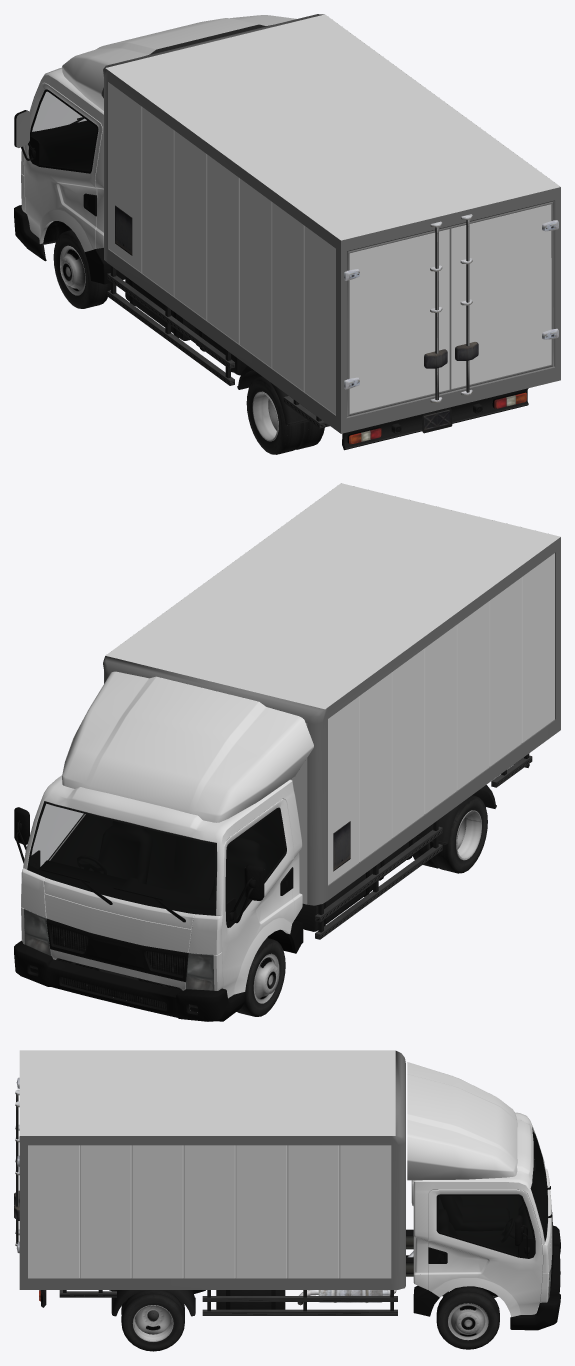
File: light_truck_07.glb
3 views of the same model, one above another, from view 1: azimuth 30°, elevation 25°; view 2: azimuth 150°, elevation 25°; view 3: azimuth 270°, elevation 25° (orthographic). The views are drawn at different scales.
Visible parts, largest first — view 1: body, wheel_FL, wheel_RL; view 2: body, wheel_FL, wheel_RL; view 3: body, wheel_FR, wheel_RR.
Boxes of the visible parts, <box> form: body: <box>14,14,560,454</box>; wheel_FL: <box>14,208,110,308</box>; wheel_RL: <box>246,377,324,454</box>; body: <box>14,483,560,1021</box>; wheel_FL: <box>214,894,303,1021</box>; wheel_RL: <box>426,796,487,873</box>; body: <box>14,1050,560,1329</box>; wheel_FR: <box>320,1274,556,1349</box>; wheel_RR: <box>121,1294,184,1351</box>.
Size of the model in its own units: 1.97 by 2.08 by 4.69.
11 materials, 5 textured.
